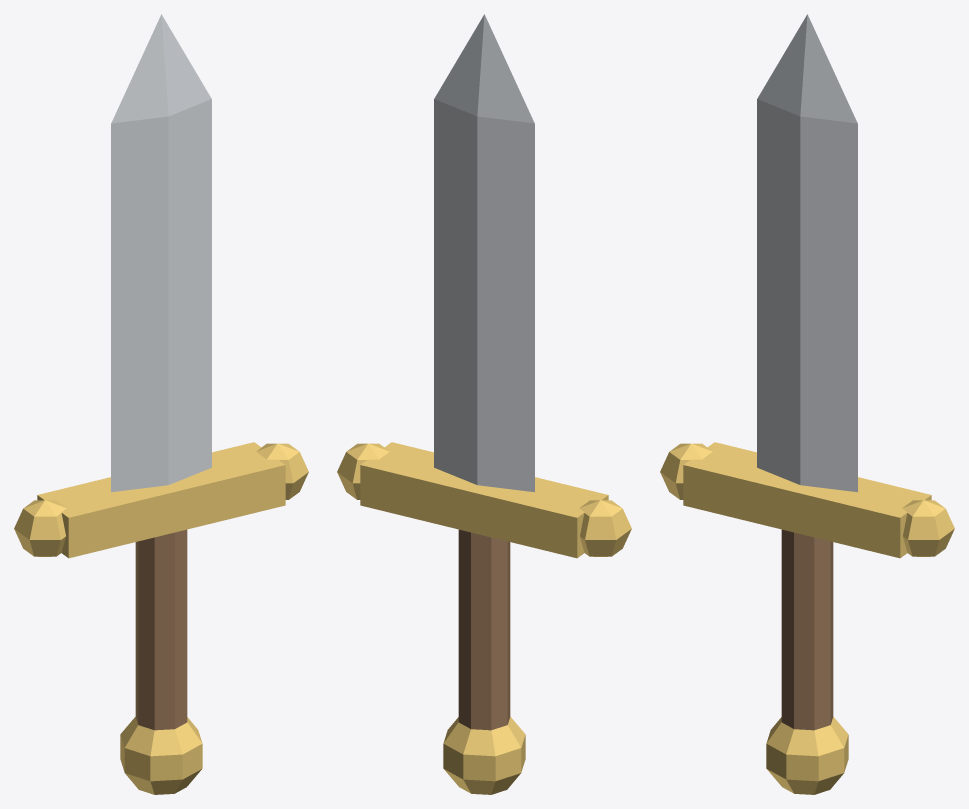
File: Sword.fbx
3 views of the same model, side by side, from view 1: azimuth 30°, elevation 25°; view 2: azimuth 150°, elevation 25°; view 3: azimuth 330°, elevation 25° (orthographic).
Visible parts, largest first — view 1: SwordModel; view 2: SwordModel; view 3: SwordModel.
Part boxes in pixels (x1,y1,x2,y2): SwordModel: [14, 14, 308, 794]; SwordModel: [337, 14, 631, 794]; SwordModel: [660, 14, 954, 794].
Size of the model in its own units: 0.3606 by 0.96 by 0.0951.
